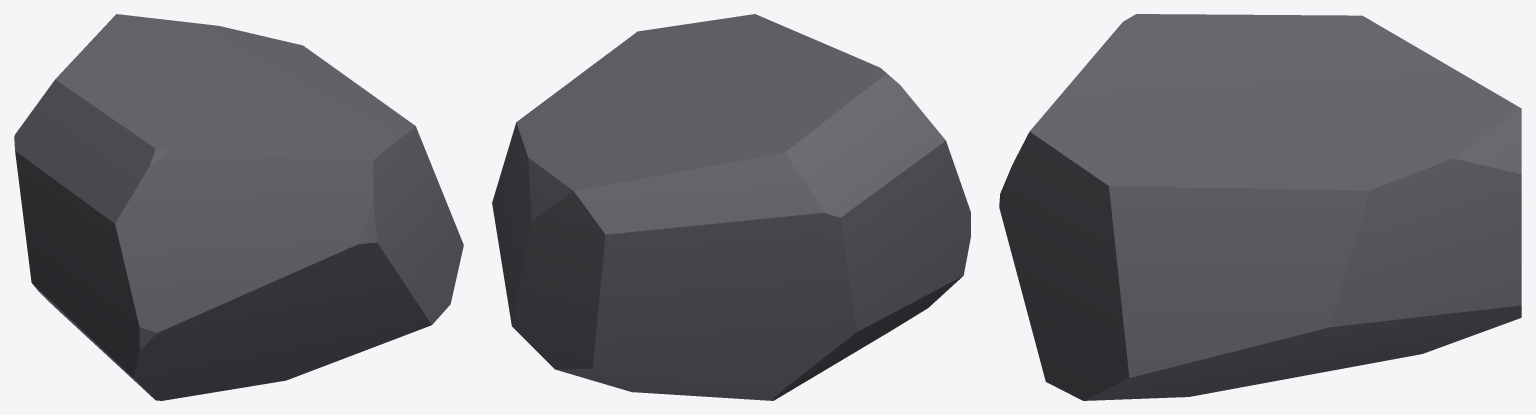
Rendered from SmallRock_02.fbx.
3 views of the same model, side by side, from view 1: azimuth 30°, elevation 25°; view 2: azimuth 150°, elevation 25°; view 3: azimuth 270°, elevation 25° (orthographic). The views are drawn at different scales.
Visible parts, largest first — view 1: SmallRock_02_LOD0; view 2: SmallRock_02_LOD0; view 3: SmallRock_02_LOD0.
Boxes of the visible parts, x1,y1,x2,y2 form: SmallRock_02_LOD0: (14,14,463,400); SmallRock_02_LOD0: (492,14,970,400); SmallRock_02_LOD0: (999,14,1521,400).
Size of what is drawn, in the model's own units: 0.4264 by 0.279 by 0.4757.
